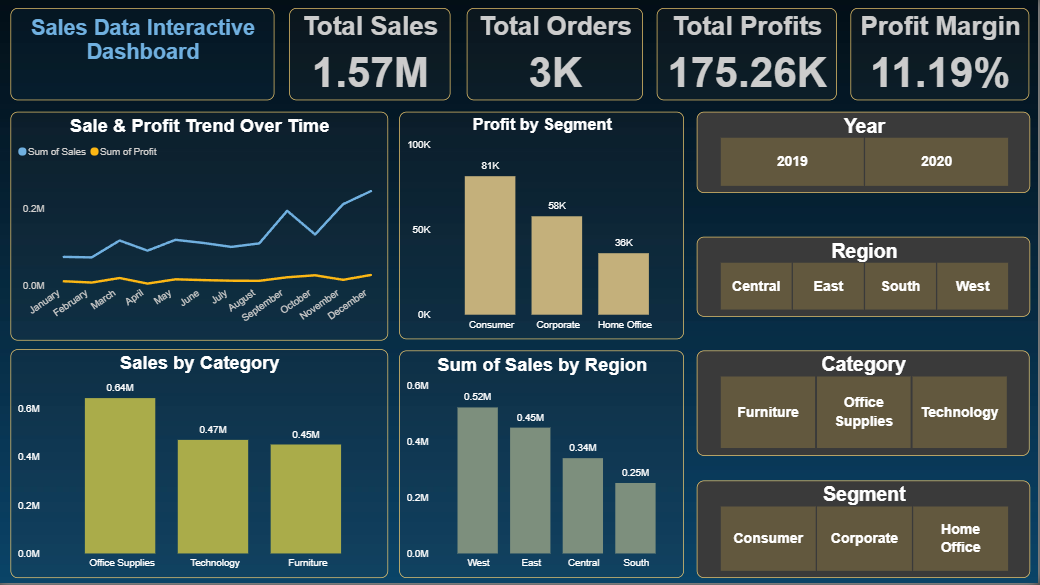

This screenshot's page, from the dashboard's own definition file:
{"tool":"powerbi","page":{"name":"Page 1","canvas":[1280,720],"ordinal":0},"visuals":[{"type":"lineChart","title":"Sale & Profit Trend  Over Time","fields":{"Category":["SuperStore_Sales_Dataset.Order Date.Variation.Date Hierarchy.Month"],"Y":["Sum(SuperStore_Sales_Dataset.Sales)","Sum(SuperStore_Sales_Dataset.Profit)"]},"box":[15.4,140,464.6,281.5],"z":0},{"type":"columnChart","title":"Profit by Segment","fields":{"Category":["SuperStore_Sales_Dataset.Segment"],"Y":["Sum(SuperStore_Sales_Dataset.Profit)"]},"box":[493.8,140,350.8,280],"z":1000},{"type":"columnChart","fields":{"Y":["Sum(SuperStore_Sales_Dataset.Sales)"],"Category":["SuperStore_Sales_Dataset.Region"]},"box":[493.8,433.8,350.8,280],"z":2000},{"type":"columnChart","title":"Sales by Category","fields":{"Y":["Sum(SuperStore_Sales_Dataset.Sales)"],"Category":["SuperStore_Sales_Dataset.Category"]},"box":[15.4,432.3,464.6,281.5],"z":3000},{"type":"slicer","title":"Year","fields":{"Values":["SuperStore_Sales_Dataset.Order Date.Variation.Date Hierarchy.Year"]},"box":[860,140,410.8,100],"z":4000},{"type":"slicer","title":"Category","fields":{"Values":["SuperStore_Sales_Dataset.Category"]},"box":[860,433.8,409.2,129.2],"z":5000},{"type":"slicer","title":"Region","fields":{"Values":["SuperStore_Sales_Dataset.Region"]},"box":[860,293.8,410.8,98.5],"z":6000},{"type":"slicer","title":"Segment","fields":{"Values":["SuperStore_Sales_Dataset.Segment"]},"box":[860,593.8,410.8,120],"z":7000},{"type":"card","title":"Total Sales","fields":{"Values":["Sum(SuperStore_Sales_Dataset.Sales)"]},"box":[358.5,12.3,198.5,113.8],"z":8000},{"type":"card","title":"Total Orders","fields":{"Values":["SuperStore_Sales_Dataset.Total Orders"]},"box":[576.9,12.3,216.9,113.8],"z":9000},{"type":"card","title":"Total Profits","fields":{"Values":["Sum(SuperStore_Sales_Dataset.Profit)"]},"box":[810.8,12.3,221.5,113.8],"z":10000},{"type":"card","title":"Profit Margin","fields":{"Values":["SuperStore_Sales_Dataset.Profit Margin"]},"box":[1049.2,12.3,220,113.8],"z":11000},{"type":"textbox","box":[15.4,12.3,324.6,113.8],"z":11001}]}

Visuals, with their boxes in screenshot pixels (x1, y1, x2, y2), scaled from the page's 1280x720 canvas onto the 1040x585 screenshot:
"Sale & Profit Trend  Over Time" lineChart: 13,114,390,342
"Profit by Segment" columnChart: 401,114,686,341
columnChart - Sum(SuperStore_Sales_Dataset.Sales) x SuperStore_Sales_Dataset.Region: 401,352,686,580
"Sales by Category" columnChart: 13,351,390,580
"Year" slicer: 699,114,1033,195
"Category" slicer: 699,352,1031,457
"Region" slicer: 699,239,1033,319
"Segment" slicer: 699,482,1033,580
"Total Sales" card: 291,10,453,102
"Total Orders" card: 469,10,645,102
"Total Profits" card: 659,10,839,102
"Profit Margin" card: 852,10,1031,102
textbox: 13,10,276,102
